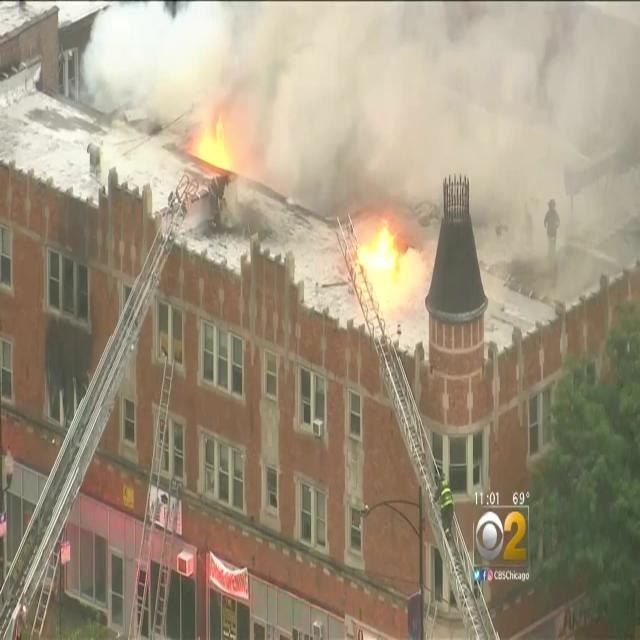Fire: (354, 220, 400, 284), (195, 115, 233, 173)
Smoke: (384, 2, 540, 228), (232, 0, 386, 201), (539, 0, 640, 206), (82, 0, 231, 116), (398, 242, 432, 292)
